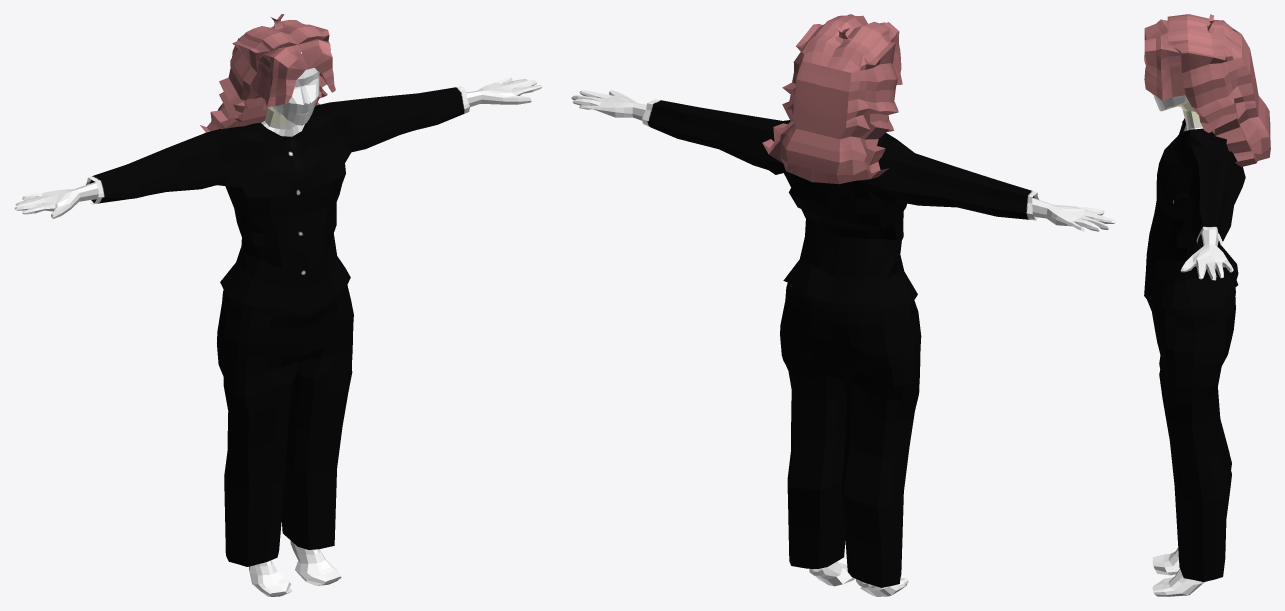
3 views of the same model, side by side, from view 1: azimuth 30°, elevation 25°; view 2: azimuth 150°, elevation 25°; view 3: azimuth 270°, elevation 25° (orthographic). The views are drawn at different scales.
Parts seen in each view (by area): view 1: Shirt, Hose, Haare, Body; view 2: Hose, Shirt, Haare, Body; view 3: Hose, Shirt, Haare, Body.
Boxes of the visible parts, box(x1,y1,x2,y2) form: Shirt: box(85, 86, 469, 313); Hose: box(217, 285, 353, 566); Haare: box(200, 14, 335, 132); Body: box(14, 52, 542, 596); Hose: box(780, 282, 921, 587); Shirt: box(642, 99, 1038, 307); Haare: box(762, 14, 902, 184); Body: box(571, 90, 1115, 596); Hose: box(1147, 288, 1235, 581); Shirt: box(1144, 118, 1245, 310); Haare: box(1144, 14, 1270, 166); Body: box(1151, 27, 1233, 596).
Bounding box in the file's own units: 319 × 325 × 66.12.
Materials: 4 (4 with a texture image).
